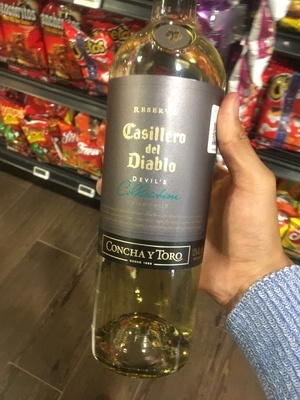casillero del diablo devils collection verde: (79, 23, 231, 355)
